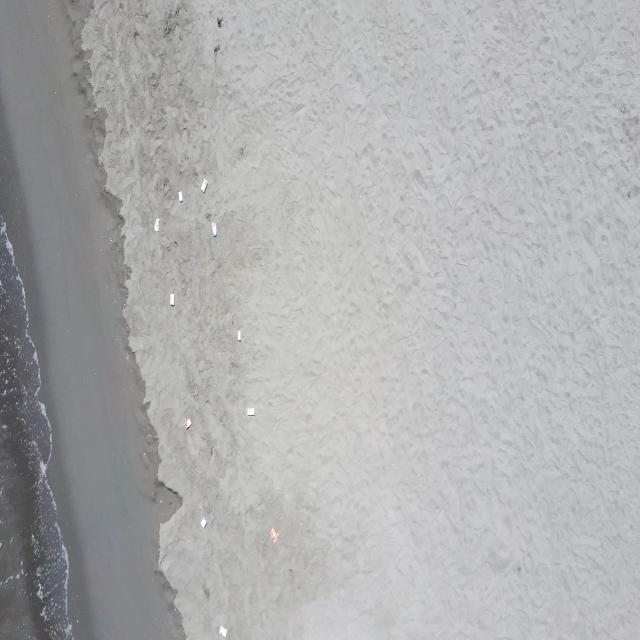Garbage: (270, 527, 279, 543), (183, 417, 191, 430), (200, 178, 207, 192), (219, 624, 226, 636), (200, 516, 207, 527), (154, 216, 159, 231), (212, 221, 216, 236), (247, 407, 253, 415), (169, 293, 173, 304), (236, 329, 240, 340), (179, 191, 180, 201)
